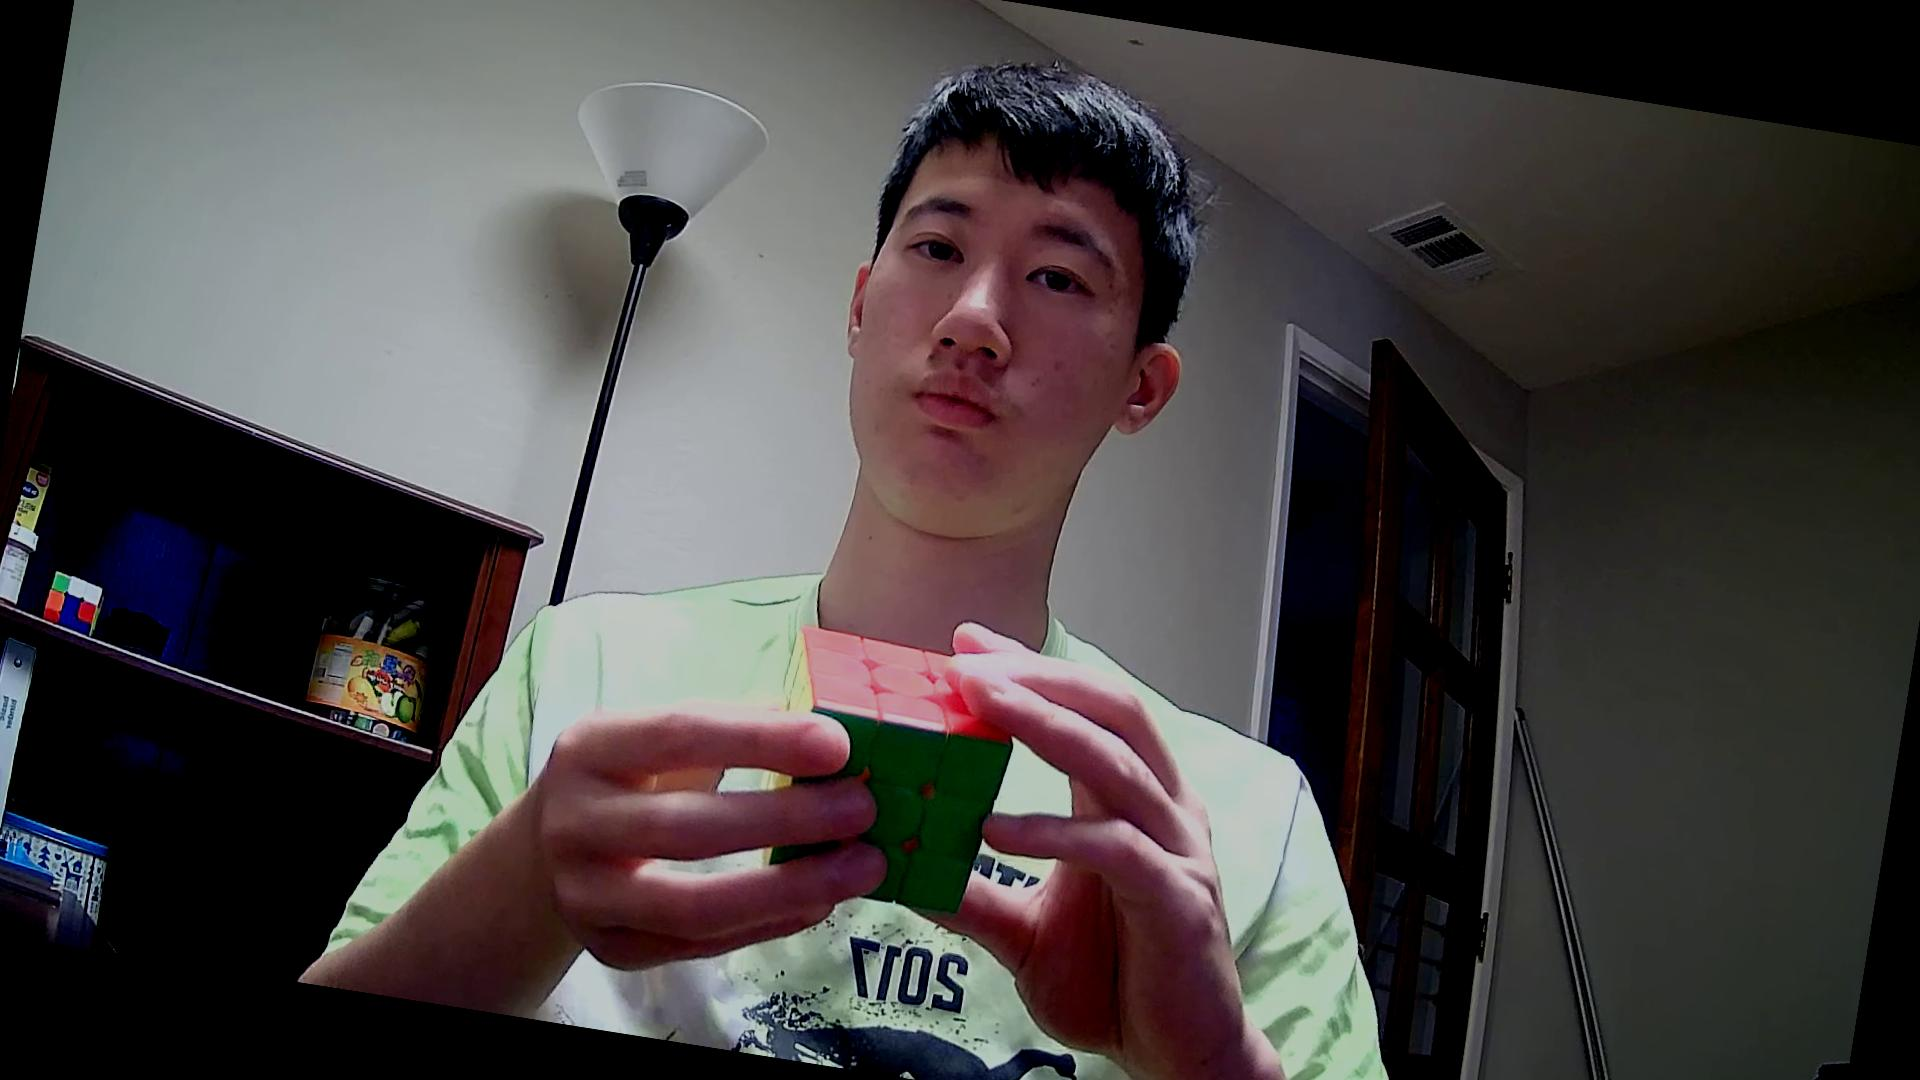Rubiks-Cube: (727, 615, 1023, 920)
